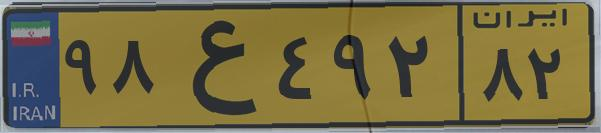2: (385, 28, 445, 110), (525, 38, 570, 115)
4: (270, 28, 330, 110)
8: (475, 38, 525, 113), (110, 28, 158, 98)
9: (330, 28, 385, 110), (57, 26, 110, 100)
ع: (158, 12, 270, 120)
